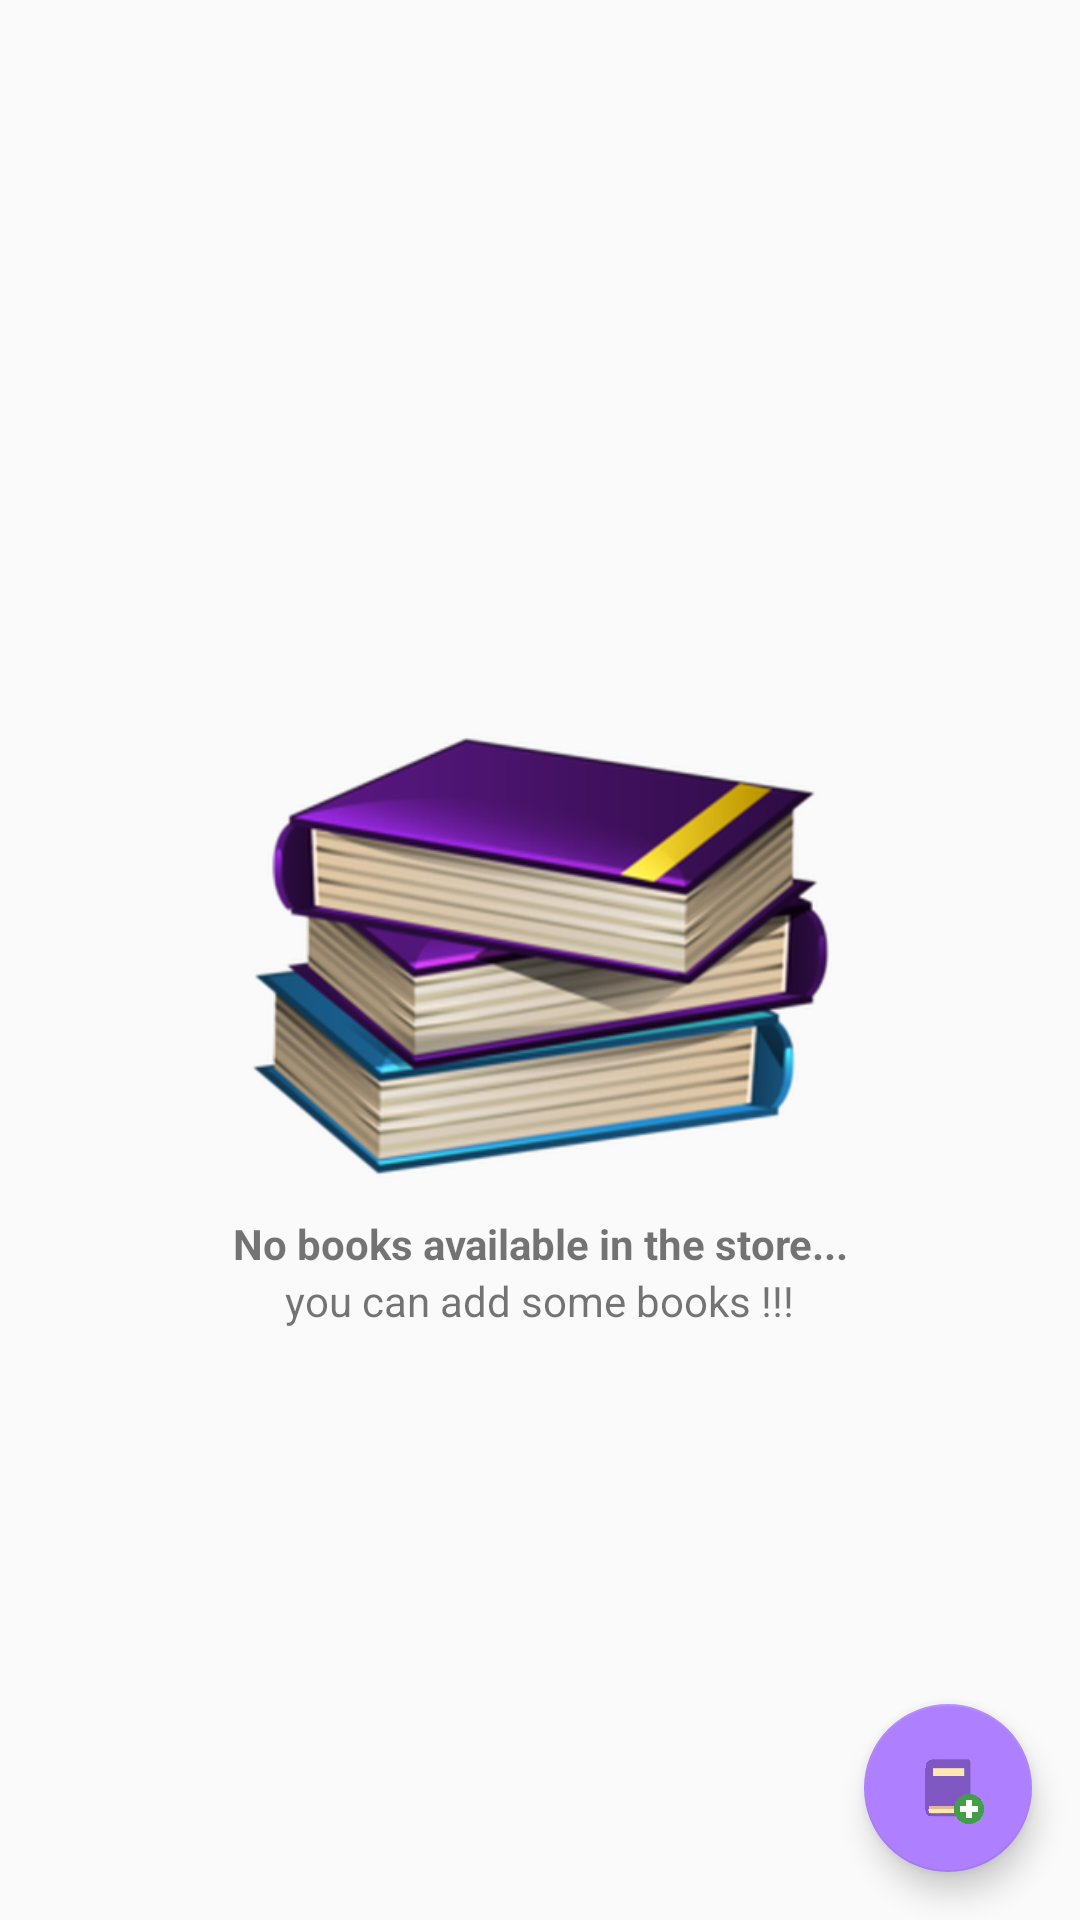

Screen size 1080w x 1920h. Icon name, then its center in pixels as (x=x, y=y):
add book: (x=948, y=1788)
